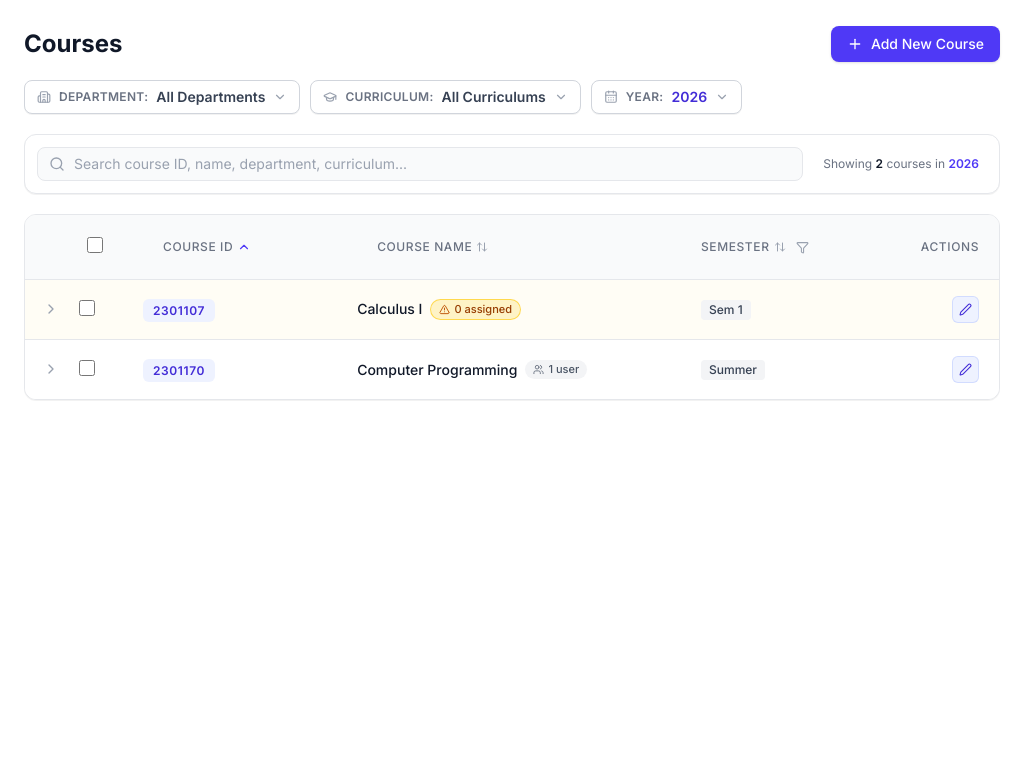
Test: CoursesPage › disables CSV import until a curriculum is selected
Expected: the text "Computer Programming" is shown, [357,360,517,380]
What coordinates should you click on to do the following:
click the button "Add New Course"
I would click on:
 (915, 44)
Its box is [831,26,1000,62].
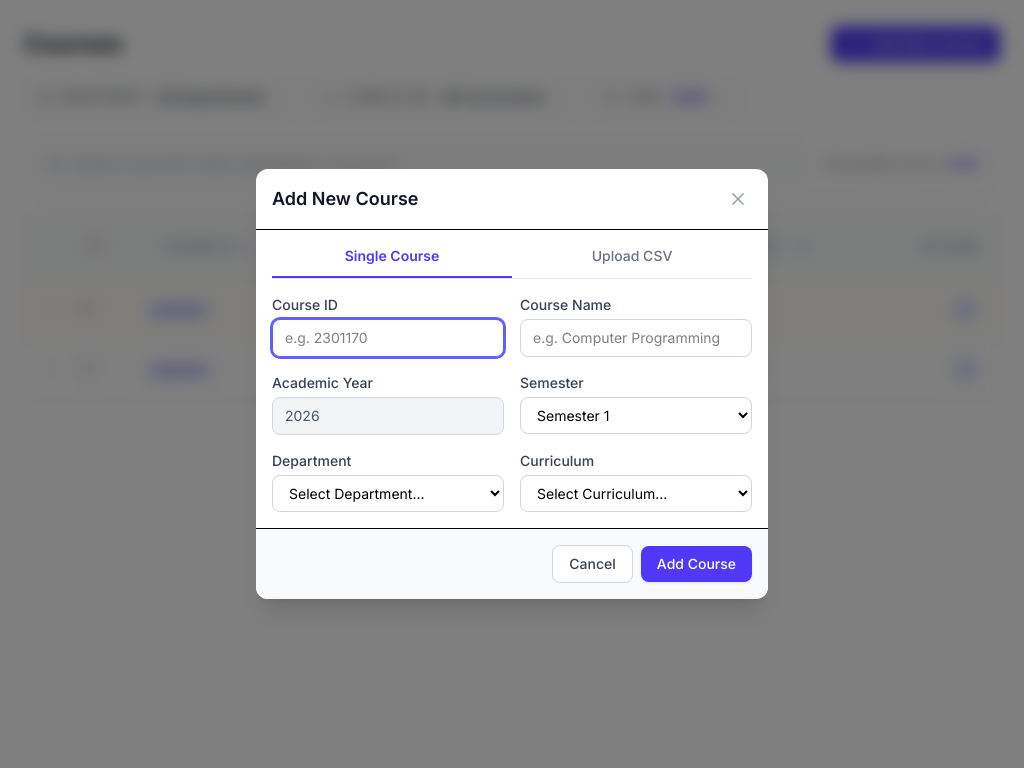
What coordinates should you click on to do the following:
click the tab "Upload CSV"
I would click on:
 (632, 262)
Its box is [512,246,752,278].
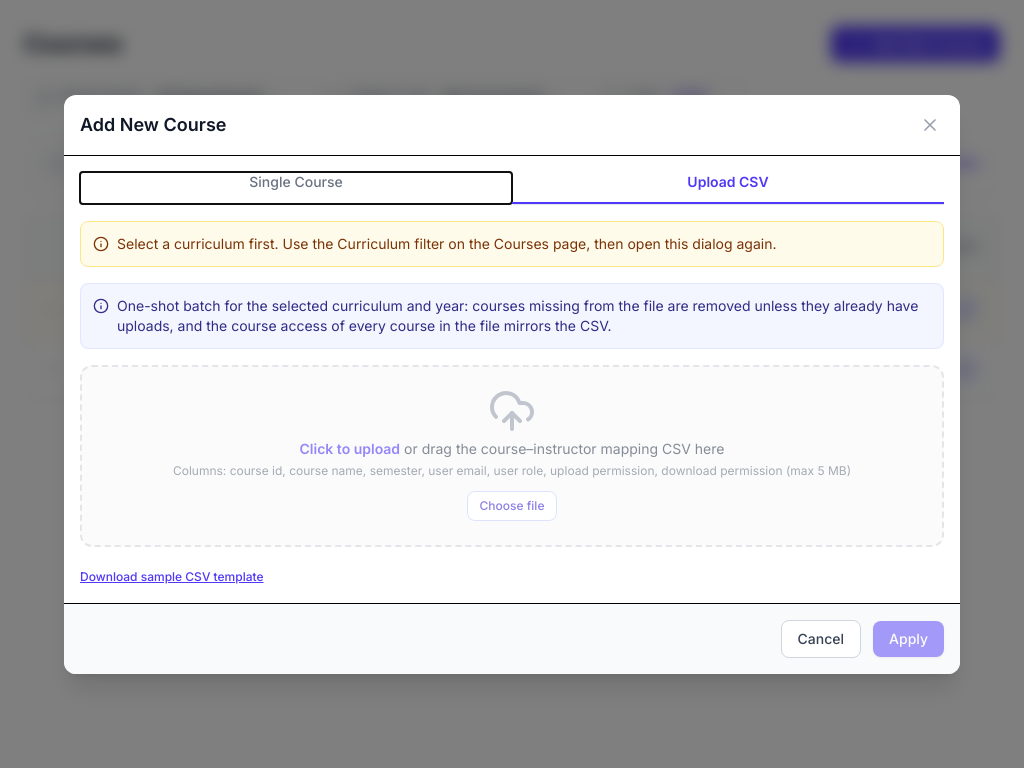
Result: the text "Select a curriculum first" is shown at [117,234,776,252]
Result: the button "Choose file" is disabled at [466,490,557,520]
Result: the button "Apply" is disabled at [873,620,944,656]
